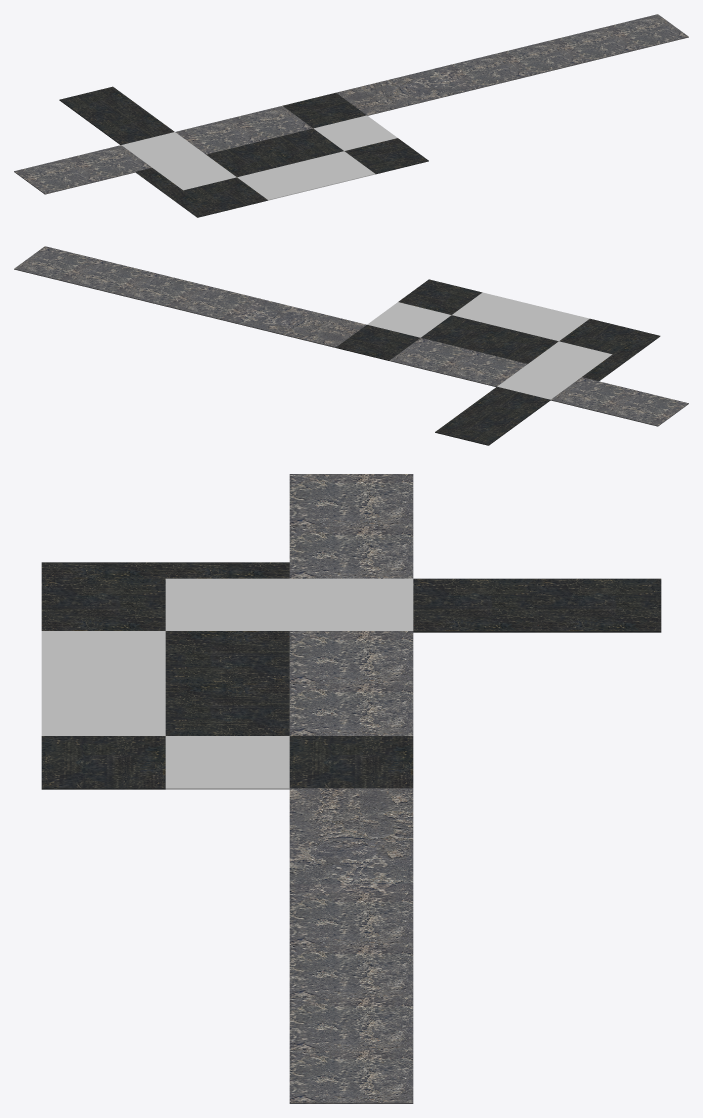
Rendered from Area1Road.fbx.
3 views of the same model, one above another, from view 1: azimuth 30°, elevation 25°; view 2: azimuth 150°, elevation 25°; view 3: azimuth 270°, elevation 25° (orthographic). The views are drawn at different scales.
Parts seen in each view (by area): view 1: Area1Road1; view 2: Area1Road1; view 3: Area1Road1.
Boxes of the visible parts, <box> form: Area1Road1: <box>14,14,688,217</box>; Area1Road1: <box>14,246,688,445</box>; Area1Road1: <box>41,474,661,1103</box>.
Bounding box in the file's own units: 6472 × 6.89 × 2697.
